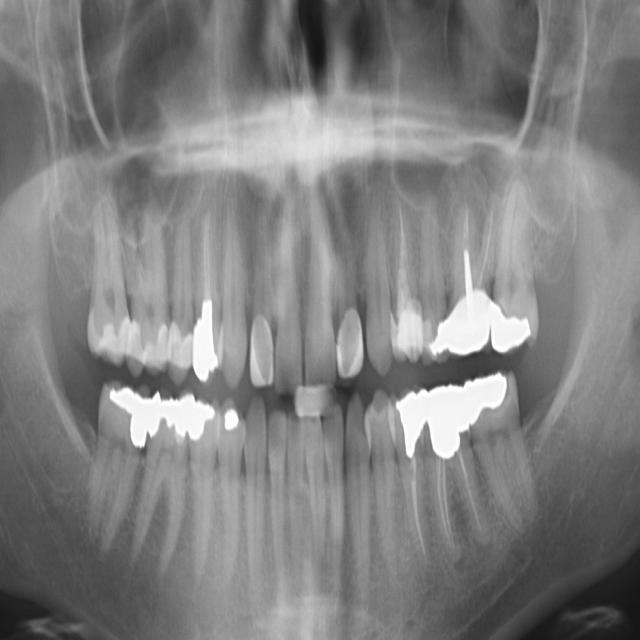infected-teeth: (449, 168, 496, 365), (396, 385, 432, 593), (386, 192, 424, 371), (425, 381, 460, 570), (452, 372, 487, 551), (192, 202, 223, 381)
